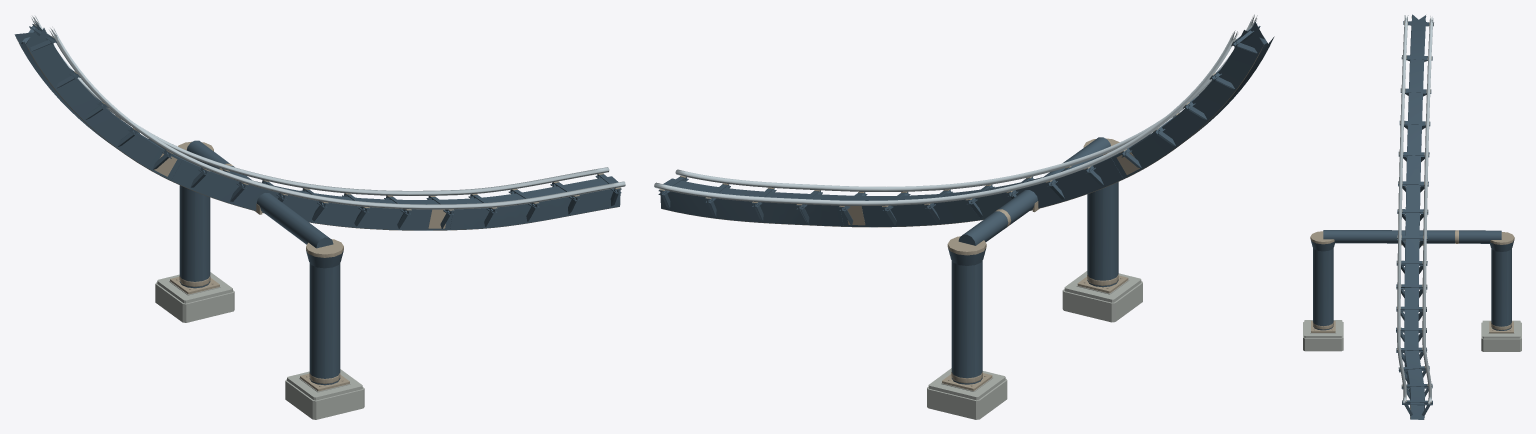
File: coaster-rail-representative.glb
The picture shows the model from 3 angles, left to right: view 1: azimuth 30°, elevation 25°; view 2: azimuth 150°, elevation 25°; view 3: azimuth 270°, elevation 25°; orthographic projection. The views are drawn at different scales.
Visible parts, largest first — view 1: Spine_FoldedBox_coatedSteel, Bent13_Member1_coatedSteel, RunningRail_Right_runningSteel, Bent13_Member0_coatedSteel, RunningRail_Left_runningSteel, Bent13_Member2_coatedSteel, Bent13_Footing1_concrete, Bent13_Footing0_concrete, Bent13_FootingCap0_concrete, Bent13_FootingCap1_concrete; view 2: Spine_FoldedBox_coatedSteel, RunningRail_Left_runningSteel, Bent13_Member0_coatedSteel, RunningRail_Right_runningSteel, Bent13_Member1_coatedSteel, Bent13_Member2_coatedSteel, Bent13_Footing1_concrete, Bent13_Footing0_concrete, Bent13_FootingCap1_concrete, Bent13_FootingCap0_concrete; view 3: Spine_FoldedBox_coatedSteel, Bent13_Member2_coatedSteel, Bent13_Member0_coatedSteel, Bent13_Member1_coatedSteel, RunningRail_Left_runningSteel, RunningRail_Right_runningSteel, Bent13_Footing0_concrete, Bent13_Footing1_concrete, Bent13_FootingCap0_concrete, Bent13_FootingCap1_concrete.
Boxes of the visible parts, x1,y1,x2,y2 form: Spine_FoldedBox_coatedSteel: [14, 21, 620, 230]; Bent13_Member1_coatedSteel: [309, 263, 340, 385]; RunningRail_Right_runningSteel: [49, 28, 625, 209]; Bent13_Member0_coatedSteel: [179, 185, 210, 288]; RunningRail_Left_runningSteel: [31, 16, 609, 195]; Bent13_Member2_coatedSteel: [187, 140, 333, 248]; Bent13_Footing1_concrete: [285, 379, 364, 419]; Bent13_Footing0_concrete: [155, 282, 234, 322]; Bent13_FootingCap0_concrete: [157, 272, 232, 303]; Bent13_FootingCap1_concrete: [287, 369, 362, 400]; Spine_FoldedBox_coatedSteel: [660, 22, 1274, 227]; RunningRail_Left_runningSteel: [654, 30, 1237, 205]; Bent13_Member0_coatedSteel: [951, 261, 982, 384]; RunningRail_Right_runningSteel: [675, 14, 1257, 191]; Bent13_Member1_coatedSteel: [1087, 182, 1118, 287]; Bent13_Member2_coatedSteel: [958, 137, 1110, 245]; Bent13_Footing1_concrete: [1062, 281, 1142, 322]; Bent13_Footing0_concrete: [927, 379, 1007, 419]; Bent13_FootingCap1_concrete: [1064, 271, 1141, 302]; Bent13_FootingCap0_concrete: [928, 368, 1005, 400]; Spine_FoldedBox_coatedSteel: [1404, 14, 1426, 419]; Bent13_Member2_coatedSteel: [1323, 230, 1501, 243]; Bent13_Member0_coatedSteel: [1491, 248, 1511, 330]; Bent13_Member1_coatedSteel: [1313, 248, 1333, 330]; RunningRail_Left_runningSteel: [1422, 16, 1433, 404]; RunningRail_Right_runningSteel: [1397, 15, 1408, 403]; Bent13_Footing0_concrete: [1481, 322, 1521, 351]; Bent13_Footing1_concrete: [1303, 322, 1343, 351]; Bent13_FootingCap0_concrete: [1482, 320, 1520, 338]; Bent13_FootingCap1_concrete: [1304, 320, 1342, 337].
Bounding box in the file's own units: 28.77 × 17.63 × 13.5.
